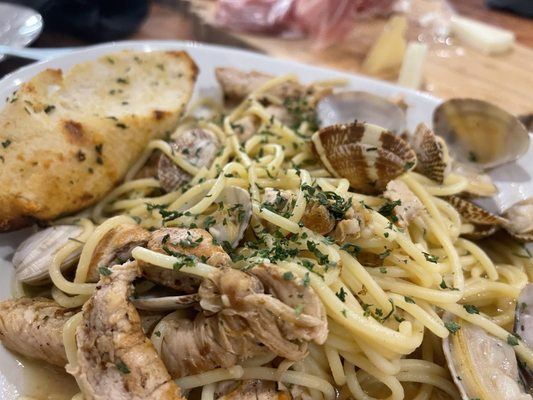sandwich: (1, 43, 531, 400)
